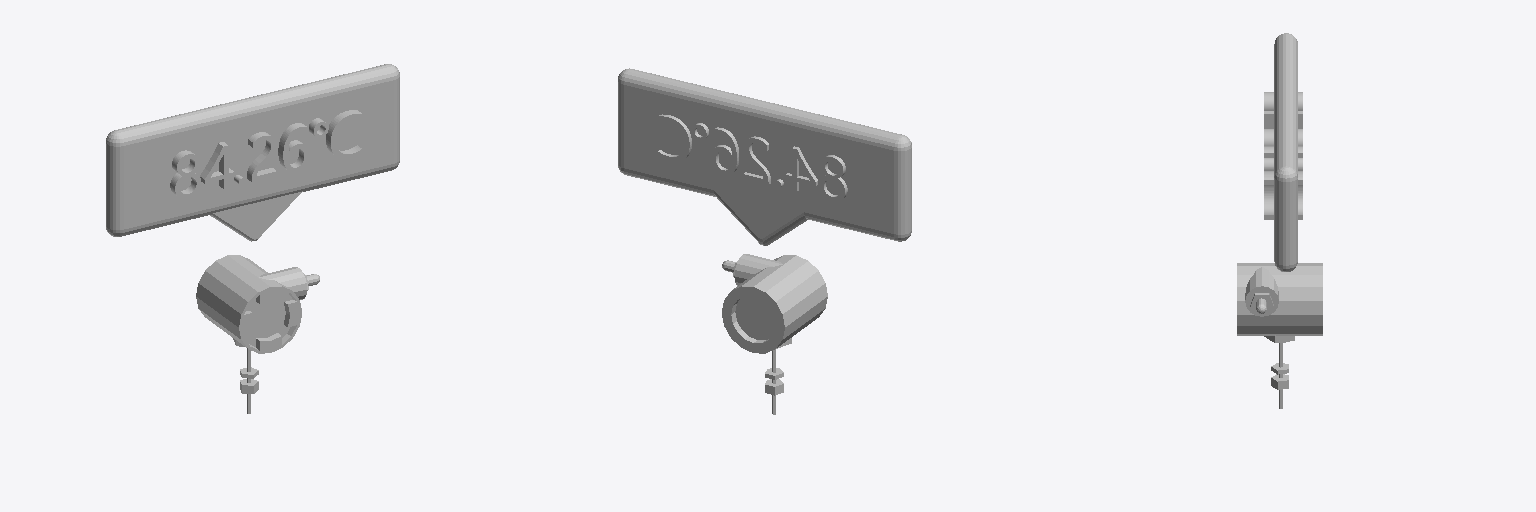
File: demo_right.obj
3 views of the same model, side by side, from view 1: azimuth 30°, elevation 25°; view 2: azimuth 150°, elevation 25°; view 3: azimuth 270°, elevation 25° (orthographic).
Size of the model in its own units: 422 by 431 by 108.